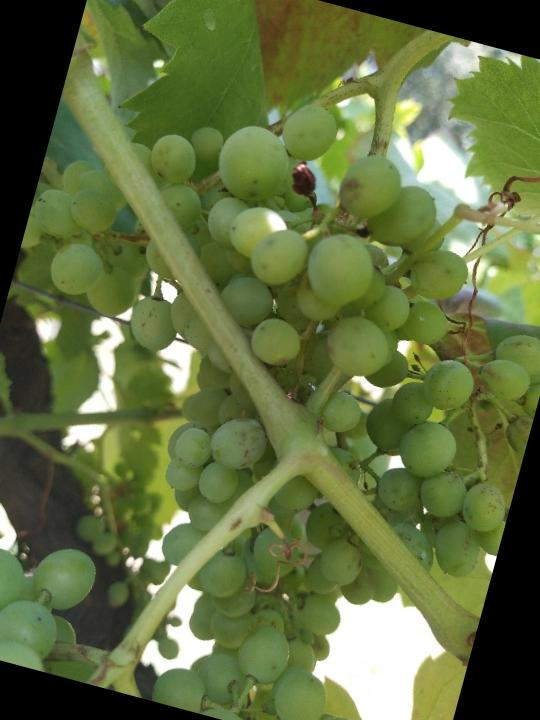grape: (0, 37, 540, 713)
